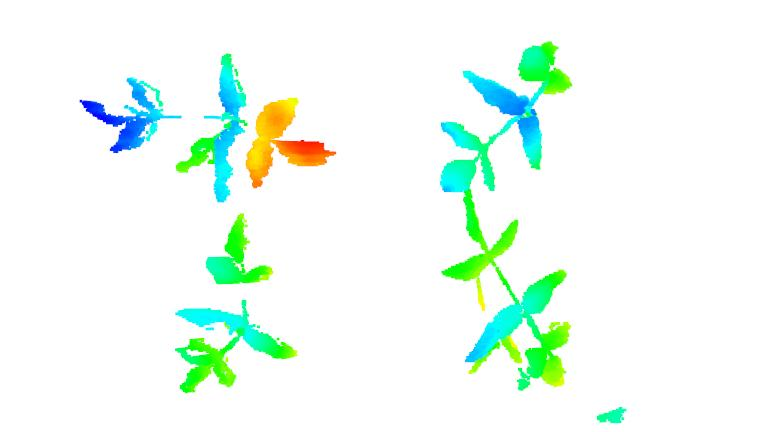mungbean: (80, 52, 342, 205), (170, 213, 303, 399), (454, 193, 570, 395), (426, 40, 575, 193)
